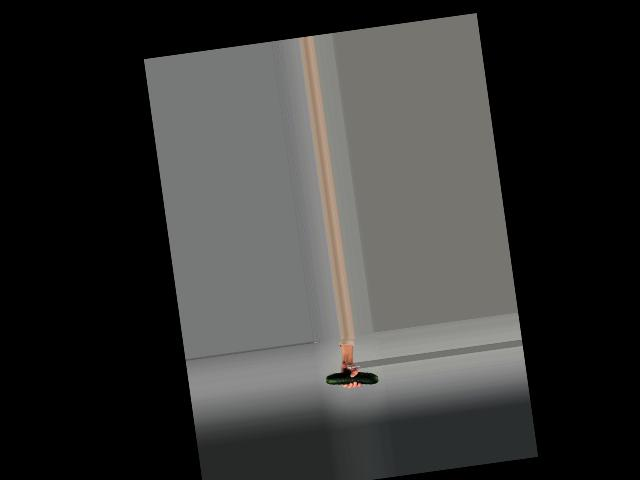cucumber: (326, 367, 379, 390)
